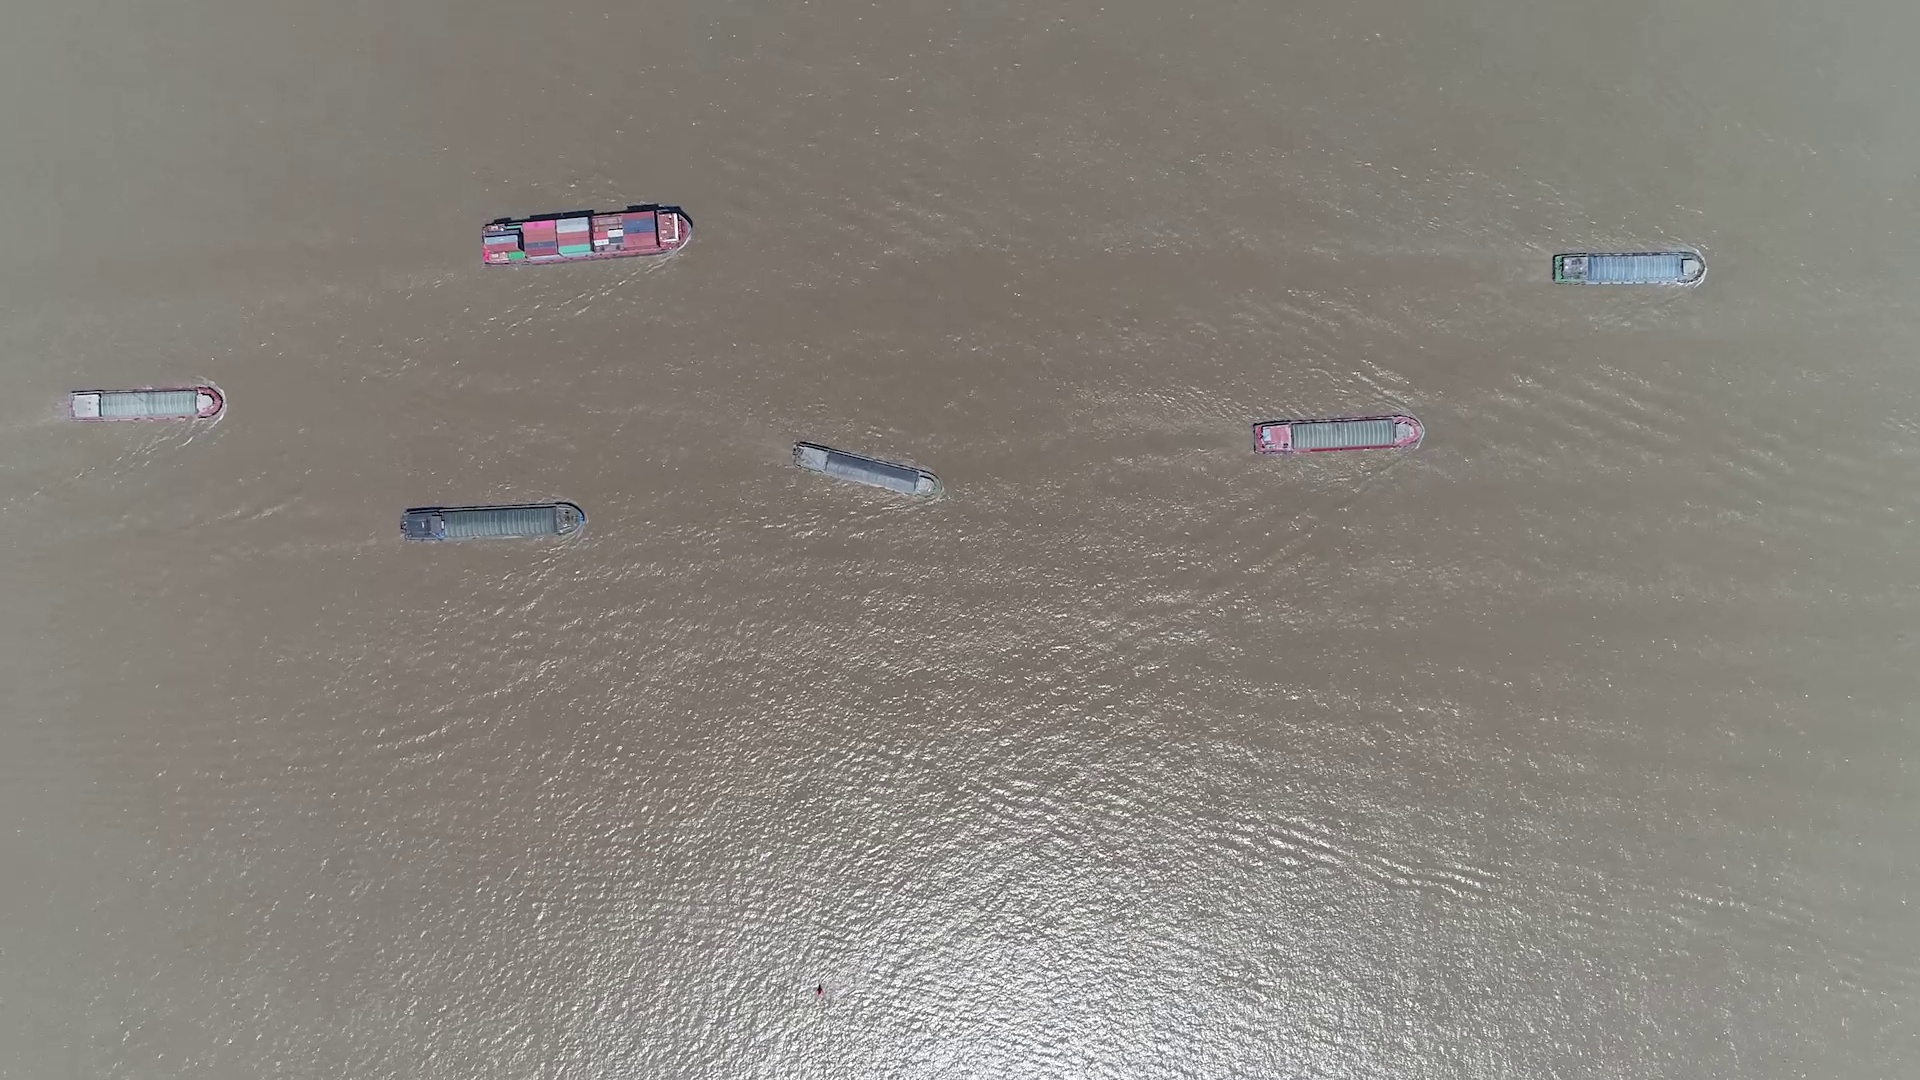ship: (480, 206, 692, 266), (791, 440, 939, 497), (402, 502, 584, 543), (1251, 415, 1423, 455), (66, 386, 222, 422), (1549, 251, 1705, 285)
